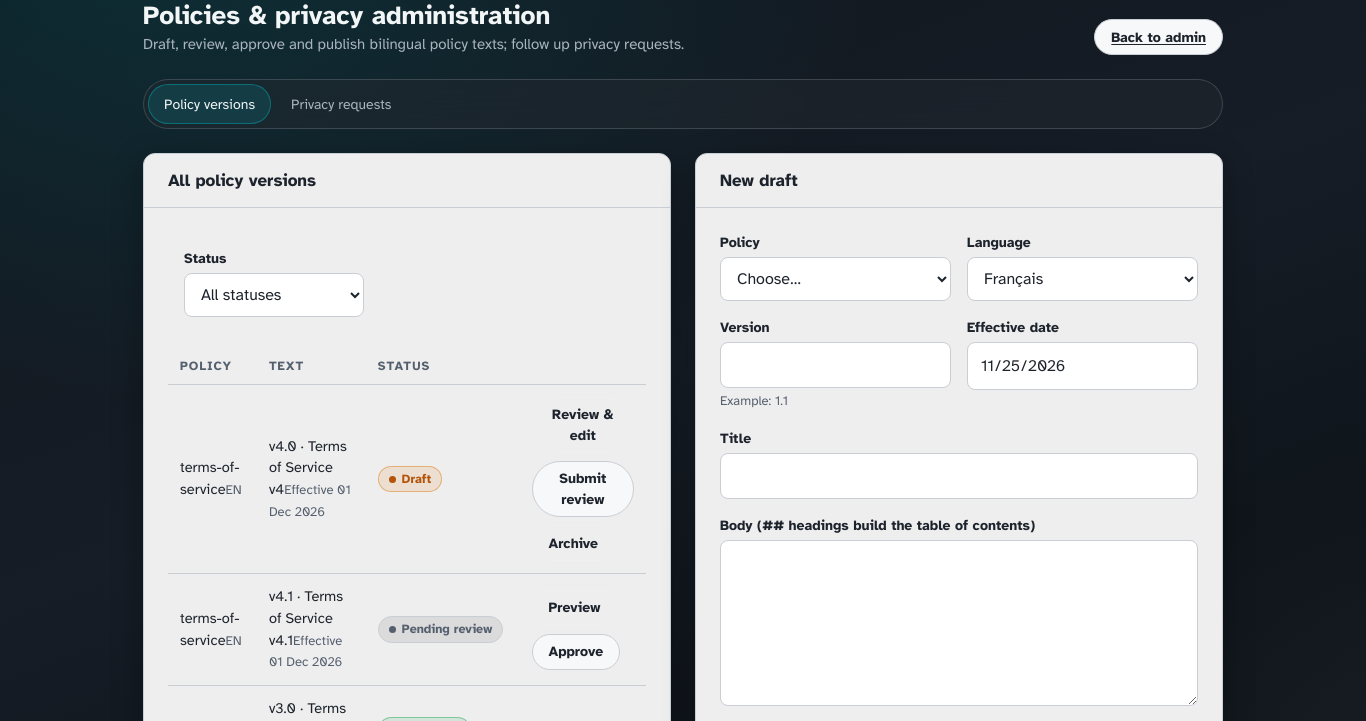
Scenario: LegalAdminPage › edits a draft title and saves it without changing the lifecycle
The width and height of the screenshot is (1366, 721).
Later steps or results of the test are not shown.
Click the button "Review & edit" at (583, 425), box [532,397,634,453]
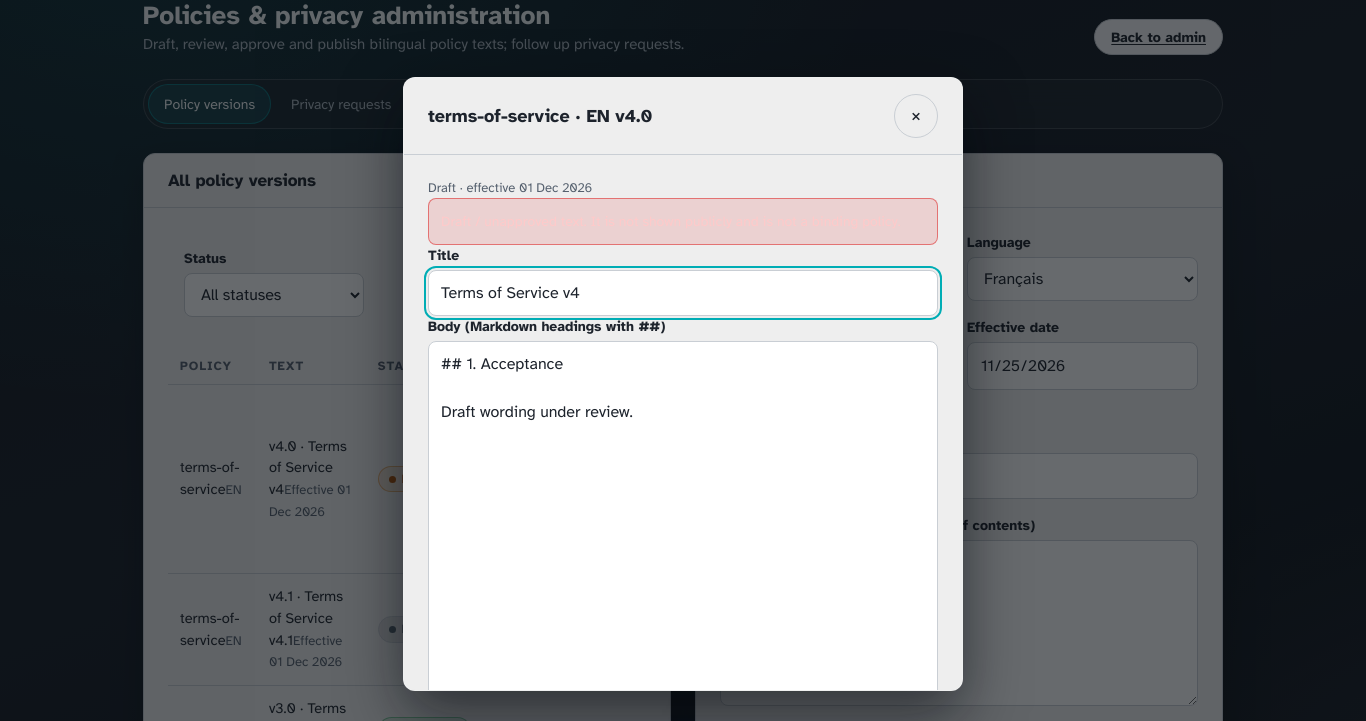
expect the heading "terms-of-service · EN v4.0" is shown: met, box [428,104,652,127]
expect the field labelled "Title" holds "Terms of Service v4": met, box [428,270,938,316]
